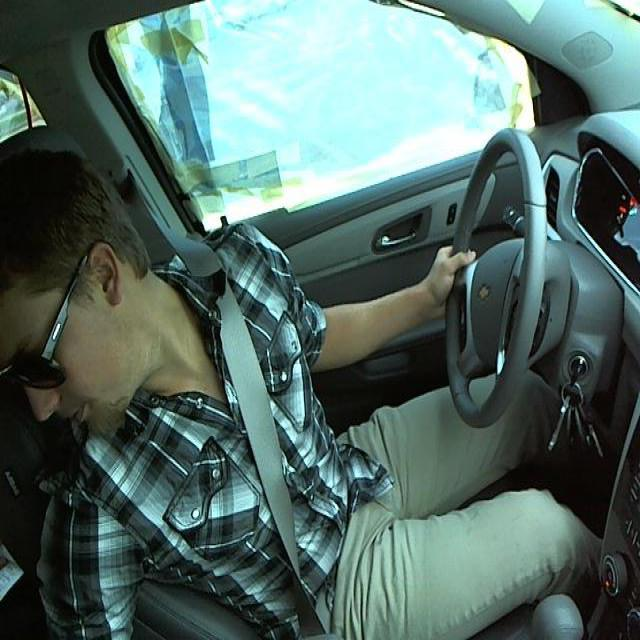seatbelt: (197, 312, 336, 639)
